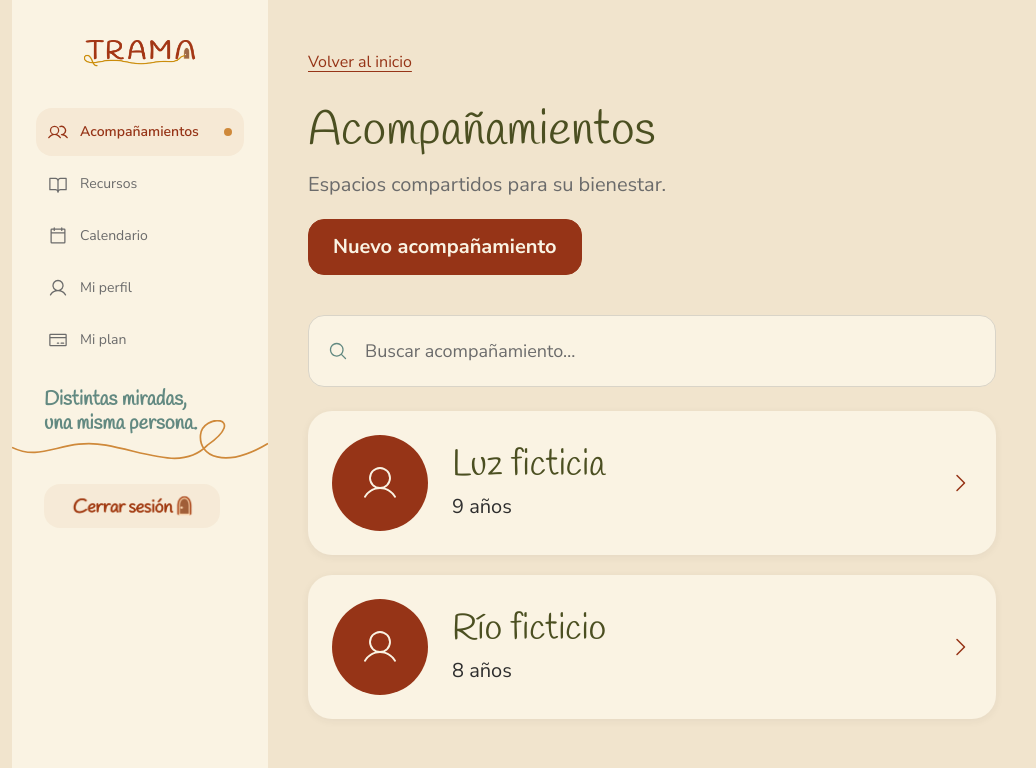
Test case: Recorrido Dashboard → Acompañamientos → Perfil › busca por nombre sin inventar proyectos y permite limpiar la búsqueda
The width and height of the screenshot is (1036, 768).
In the search field labelled "Buscar acompañamiento": (652, 351) left=308, top=315, right=996, bottom=387, type "luz"
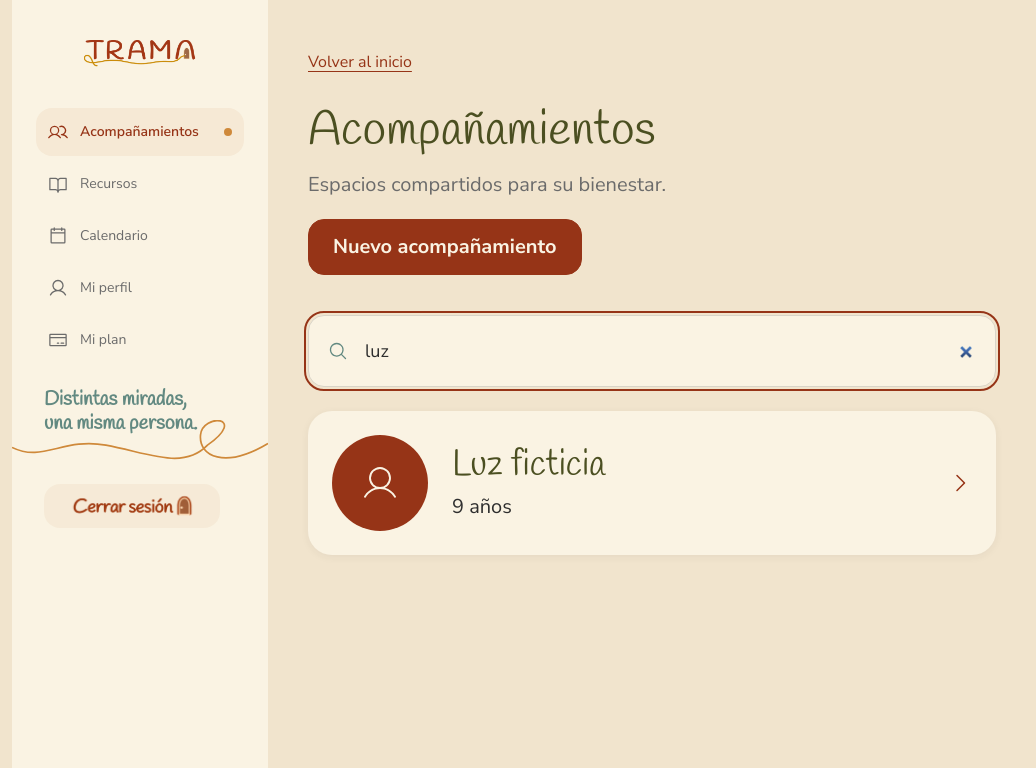
Expected: the link with aria-label "Ver perfil de Luz ficticia" is shown, left=308, top=411, right=996, bottom=555
Replace the text in the search field named "Buscar acompañamiento" with "Sin coincidencias": (652, 351) left=308, top=315, right=996, bottom=387
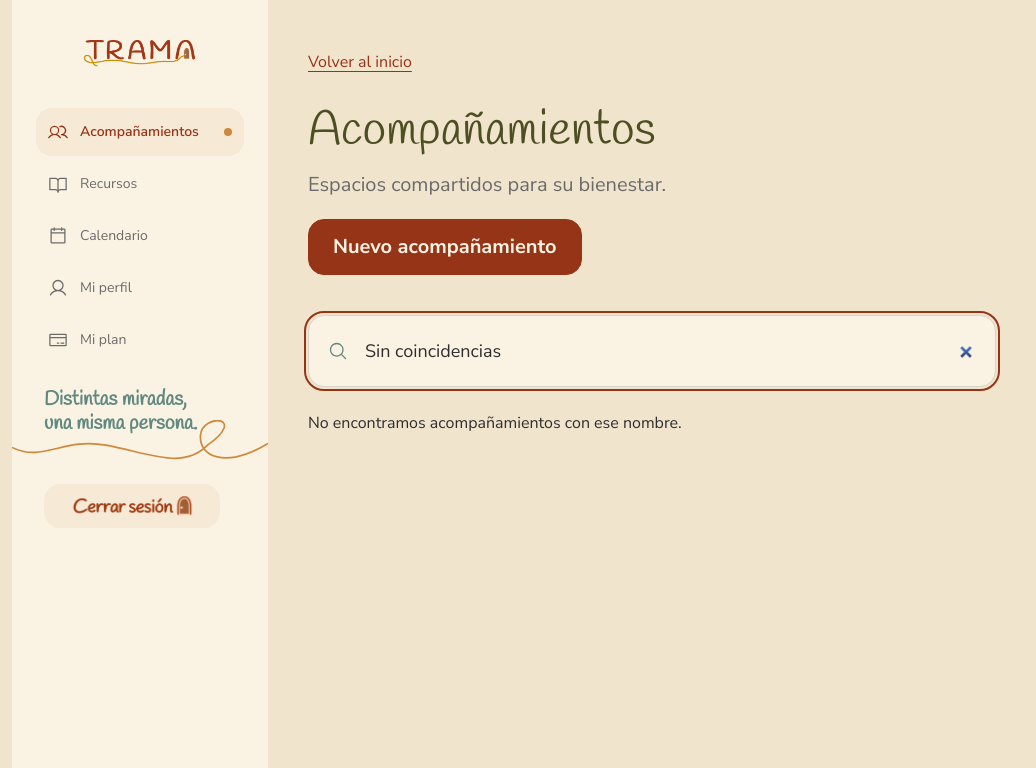
Result: the message shows "No encontramos acompañamientos con ese nombre" at left=308, top=412, right=682, bottom=434
Clear the search field named "Buscar acompañamiento": (652, 351) left=308, top=315, right=996, bottom=387
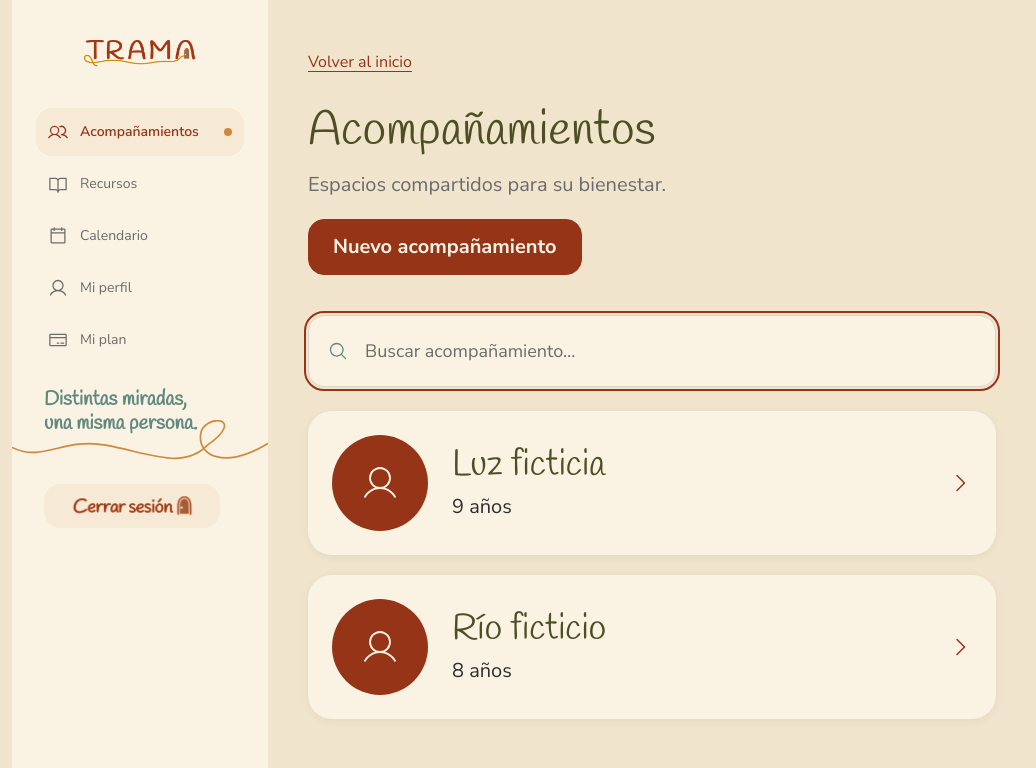
Result: the number of links named "Ver perfil de" is 2 at left=308, top=411, right=996, bottom=555; left=308, top=575, right=996, bottom=719
